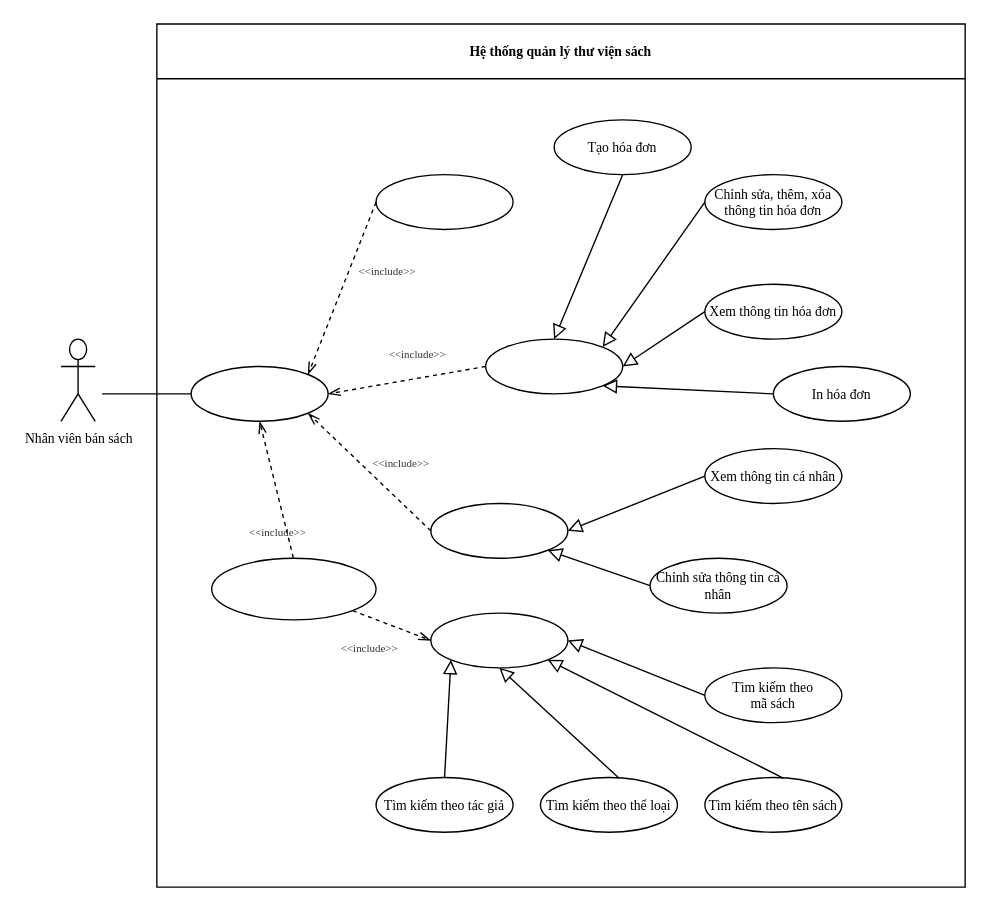
Image size: 989x911. Some labels were removed from this diagram. The centre of each missing label's shape, as x and y in pixels:
Quản lý hóa đơn: (553,366)
Quản lý thông tin cá nhân: (498,530)
Quản lý thông tin sách: (293,588)
Tìm kiếm sách: (498,640)
Đăng nhập: (259,393)
Đăng xuất: (444,201)
